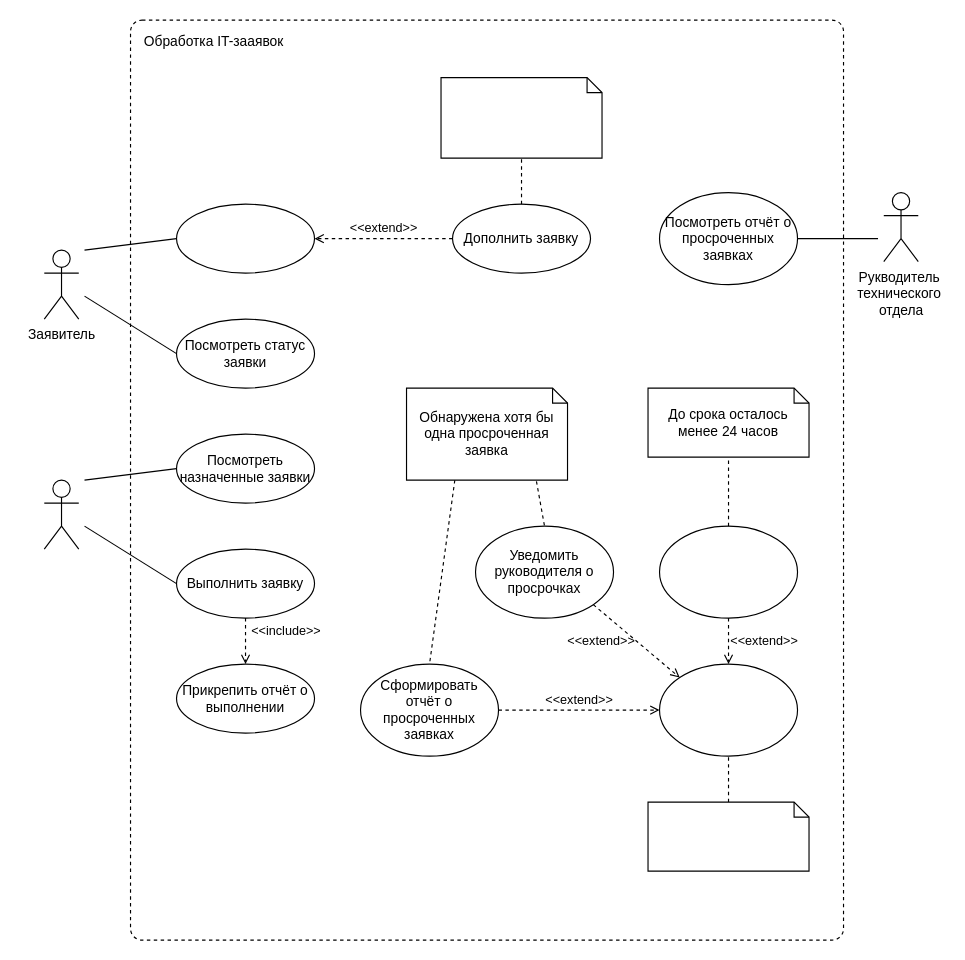
Some shapes in this 965 by 960 pixel diagram are drawn without their labels. The centre of each missing label's shape, as x and y in pixels:
"Выполнить автоматический контроль сроков" goes at pixel 728 709.
"Запуск ежедневно в 09:00" goes at pixel 728 836.
"Обязательные данные отсутствуют или некорректны" goes at pixel 521 117.
"Создает заявку" goes at pixel 245 238.
"Технический специалист" goes at pixel 61 514.
"Уведомить специалиста о приближении срока" goes at pixel 728 571.
